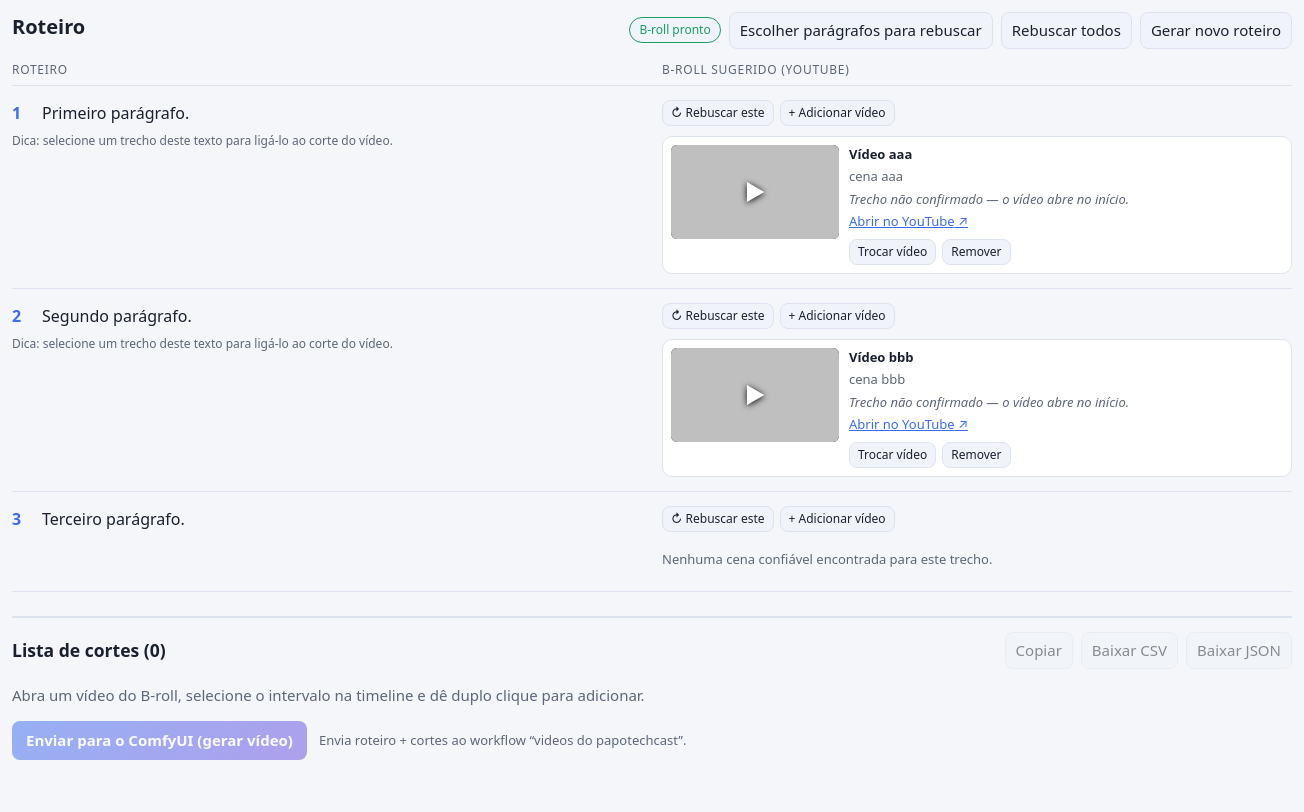
Test: marcar todos e cancelar a seleção
The width and height of the screenshot is (1304, 812).
Click the button "Escolher parágrafos para rebuscar": point(861, 30) 729,12 -> 993,48
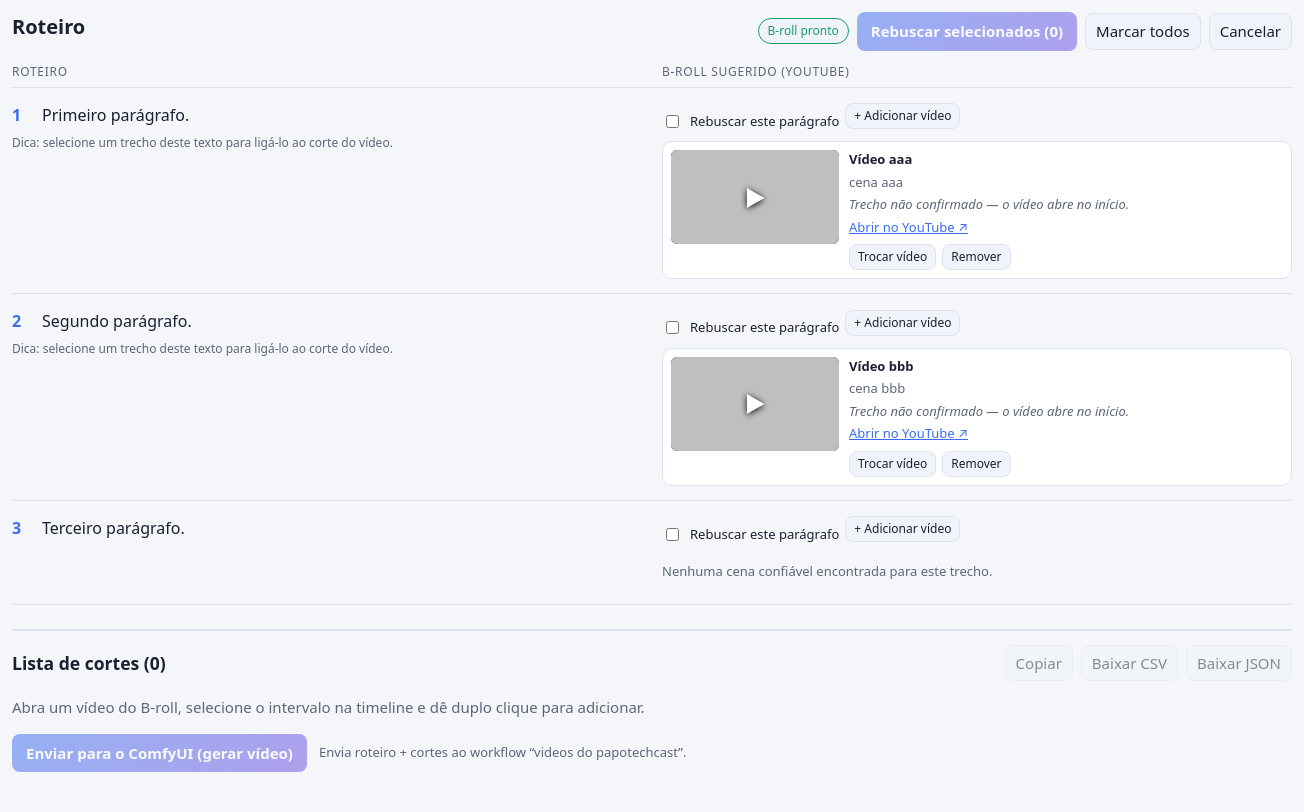
Click the button "Marcar todos": point(1143, 31) 1085,13 -> 1201,50
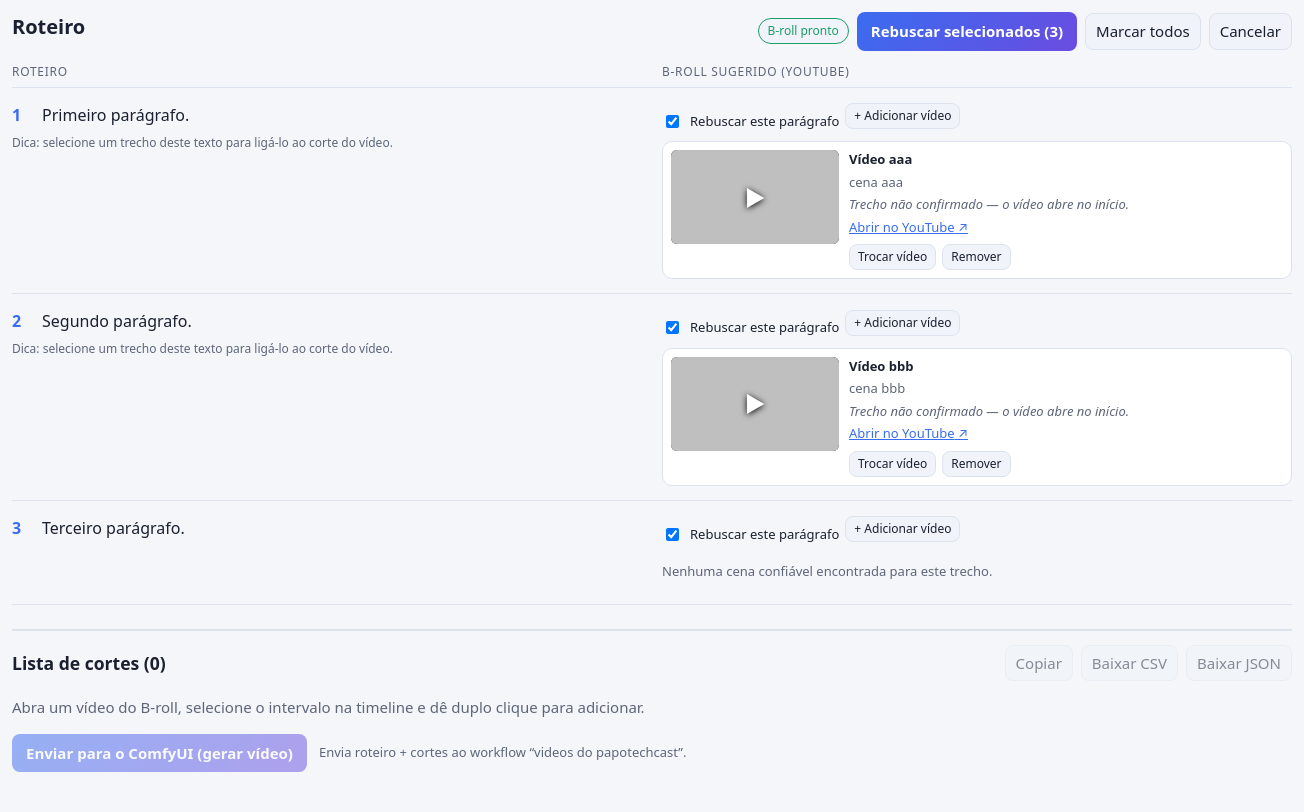
Expected: the button "Rebuscar selecionados (3)" is enabled, 857,12 -> 1077,50
Click the button "Cancelar": point(1250, 31) 1209,13 -> 1292,50
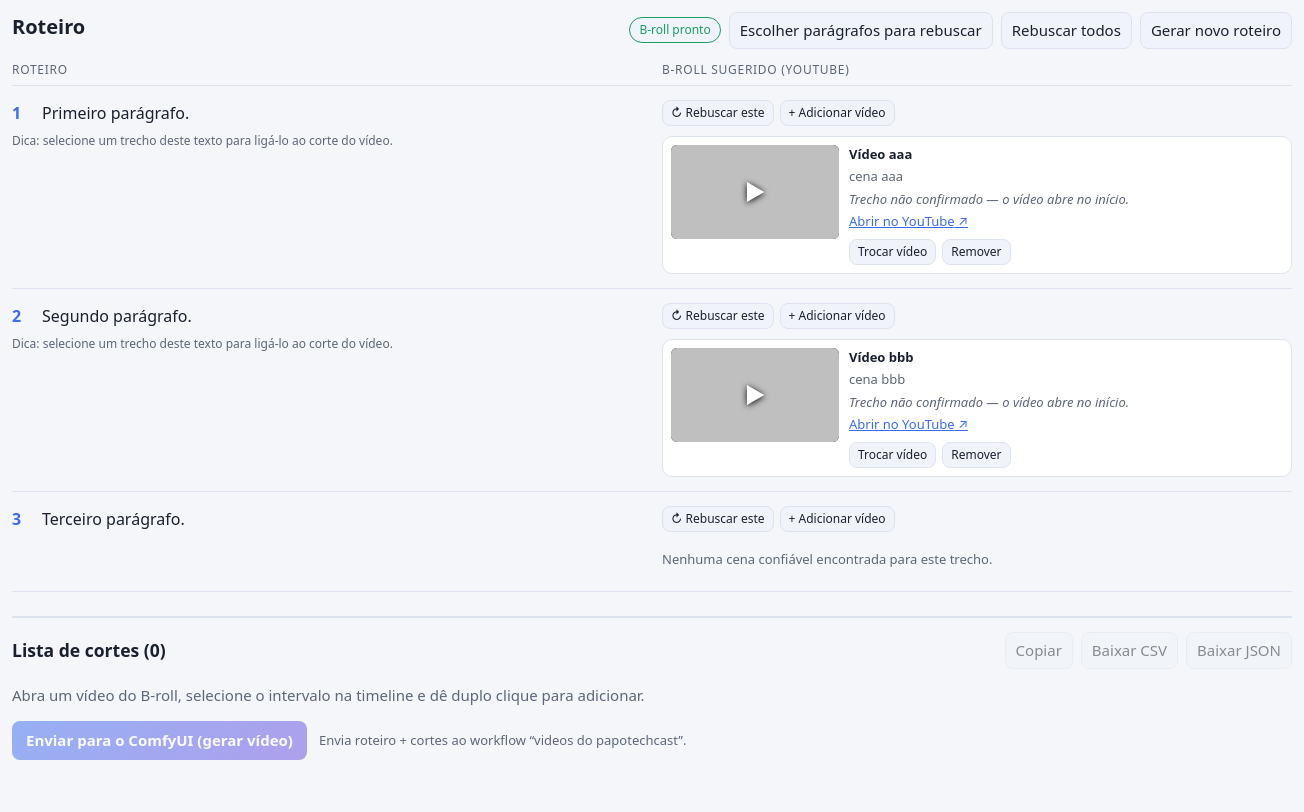
Expected: the button "Rebuscar todos" is shown, 1001,12 -> 1132,48
